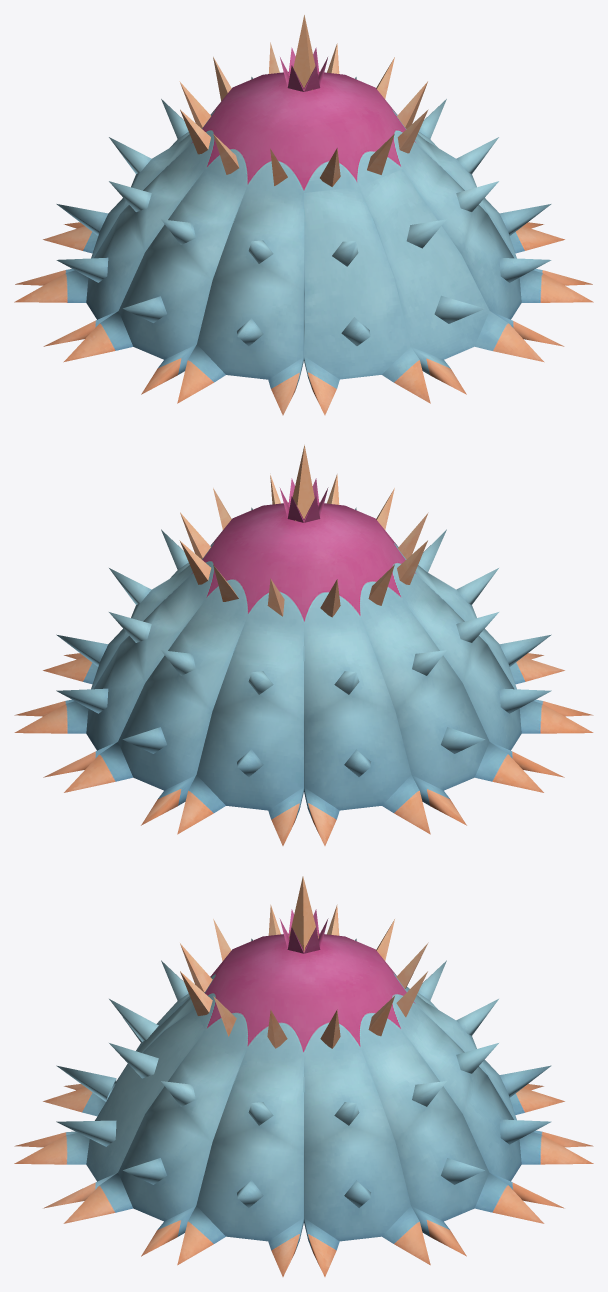
3 views of the same model, one above another, from view 1: azimuth 30°, elevation 25°; view 2: azimuth 150°, elevation 25°; view 3: azimuth 270°, elevation 25° (orthographic).
Visible parts, largest first — view 1: pm0802_00_00_body_mesh_shape_lod1_body_a, pm0802_00_00_body_mesh_shape_lod1_body_b, pm0802_00_00_toge_mesh_shape_lod1_body_b; view 2: pm0802_00_00_body_mesh_shape_lod1_body_a, pm0802_00_00_body_mesh_shape_lod1_body_b, pm0802_00_00_toge_mesh_shape_lod1_body_b; view 3: pm0802_00_00_body_mesh_shape_lod1_body_a, pm0802_00_00_body_mesh_shape_lod1_body_b, pm0802_00_00_toge_mesh_shape_lod1_body_b.
Boxes of the visible parts, x1,y1,x2,y2 form: pm0802_00_00_body_mesh_shape_lod1_body_a: (86, 131, 521, 379); pm0802_00_00_body_mesh_shape_lod1_body_b: (14, 47, 593, 415); pm0802_00_00_toge_mesh_shape_lod1_body_b: (179, 15, 428, 186); pm0802_00_00_body_mesh_shape_lod1_body_a: (86, 562, 521, 810); pm0802_00_00_body_mesh_shape_lod1_body_b: (14, 478, 593, 845); pm0802_00_00_toge_mesh_shape_lod1_body_b: (179, 445, 428, 617); pm0802_00_00_body_mesh_shape_lod1_body_a: (86, 987, 521, 1241); pm0802_00_00_body_mesh_shape_lod1_body_b: (14, 909, 593, 1276); pm0802_00_00_toge_mesh_shape_lod1_body_b: (180, 876, 428, 1048).
Size of the model in its own units: 1.37 by 0.7293 by 1.37.
Materials: 4 (4 with a texture image).
